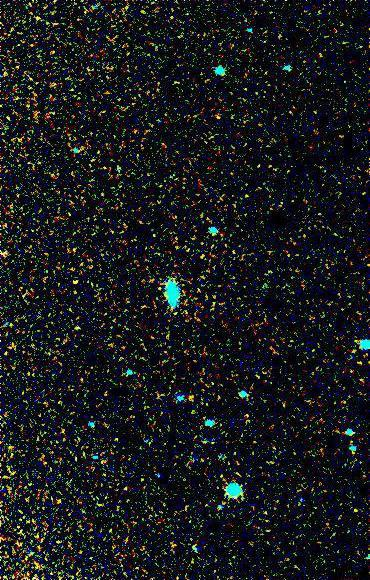star: (176, 382, 206, 412)
